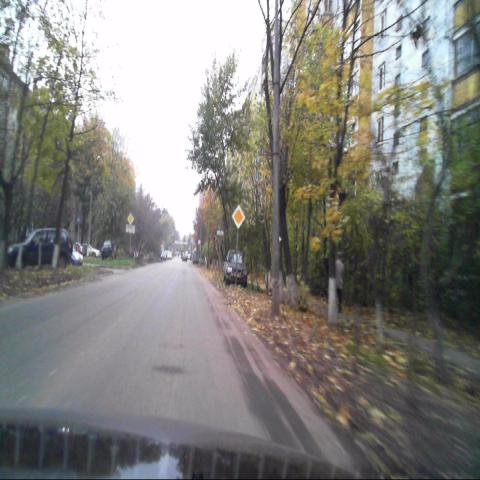2_1: (232, 205, 245, 229), (127, 212, 134, 224)
